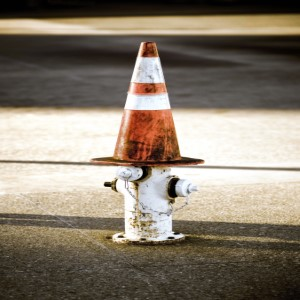traffic cone: (90, 41, 205, 168)
